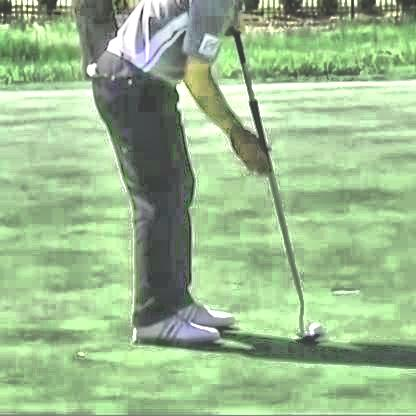golfball: (306, 320, 322, 333)
